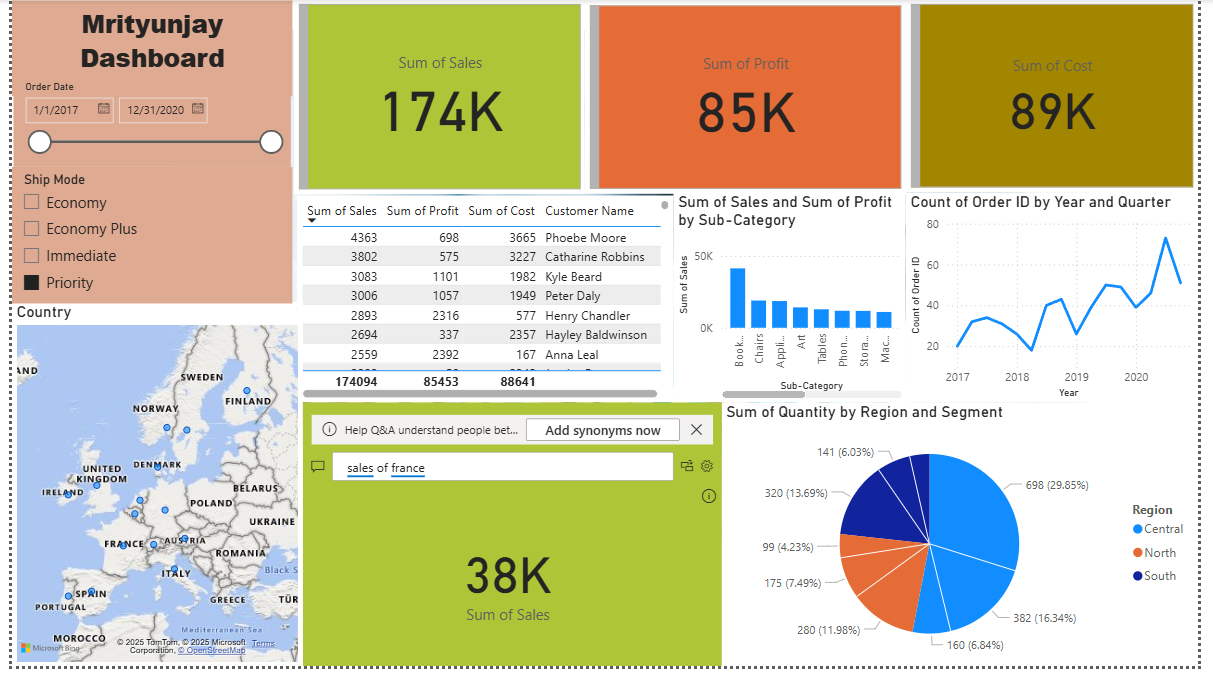

The page's visual inventory and layout, read from the dashboard file:
{"tool":"powerbi","page":{"name":"Page 1","canvas":[1280,720],"ordinal":0},"visuals":[{"type":"cardVisual","fields":{"Data":["List of Orders.Sales"]},"box":[304.4,0,314.1,210.5],"z":0},{"type":"tableEx","fields":{"Values":["List of Orders.Sales","List of Orders.Profit","List of Orders.Cost","List of Orders.Customer Name"]},"box":[307.7,212.1,406.4,223.5],"z":1000},{"type":"columnChart","fields":{"Category":["List of Orders.Sub-Category"],"Y":["List of Orders.Sales"]},"box":[714.1,208.9,251,226.7],"z":2000},{"type":"cardVisual","fields":{"Data":["List of Orders.Profit"]},"box":[618.5,1.6,346.5,208.9],"z":3000},{"type":"cardVisual","fields":{"Data":["List of Orders.Cost"]},"box":[965.1,0,315.7,208.9],"z":4000},{"type":"lineChart","fields":{"Y":["List of Orders.Order ID"],"Category":["List of Orders.Order Date.Variation.Date Hierarchy.Year","List of Orders.Order Date.Variation.Date Hierarchy.Quarter"]},"box":[965.1,208.9,314.1,226.7],"z":5000},{"type":"pieChart","fields":{"Category":["List of Orders.Region"],"Y":["List of Orders.Quantity"],"Series":["List of Orders.Segment"]},"box":[765.9,435.6,513.3,285],"z":6000},{"type":"map","fields":{"Category":["List of Orders.Country"]},"box":[0,326.9,313.7,393.1],"z":7000},{"type":"slicer","fields":{"Values":["List of Orders.Ship Mode"]},"box":[0,180.9,302.3,147.3],"z":8000},{"type":"textbox","box":[0,1.6,302.8,103.6],"z":9000},{"type":"slicer","fields":{"Values":["List of Orders.Order Date"]},"box":[1.6,82.6,299.6,98.8],"z":10000},{"type":"qnaVisual","box":[314.1,435.6,451.8,285],"z":11000}]}

Visuals, with their boxes in screenshot pixels (x1, y1, x2, y2), scaled from the page's 1280x720 canvas onto the 1213x673 screenshot:
cardVisual - List of Orders.Sales: rect(288, 0, 586, 197)
tableEx - List of Orders.Sales x List of Orders.Profit: rect(292, 198, 677, 407)
columnChart - List of Orders.Sub-Category x List of Orders.Sales: rect(677, 195, 915, 407)
cardVisual - List of Orders.Profit: rect(586, 1, 914, 197)
cardVisual - List of Orders.Cost: rect(915, 0, 1212, 195)
lineChart - List of Orders.Order ID x List of Orders.Order Date.Variation.Date Hierarchy.Year: rect(915, 195, 1212, 407)
pieChart - List of Orders.Region x List of Orders.Quantity: rect(726, 407, 1212, 672)
map - List of Orders.Country: rect(0, 306, 297, 672)
slicer - List of Orders.Ship Mode: rect(0, 169, 286, 307)
textbox: rect(0, 1, 287, 98)
slicer - List of Orders.Order Date: rect(2, 77, 285, 170)
qnaVisual: rect(298, 407, 726, 672)
